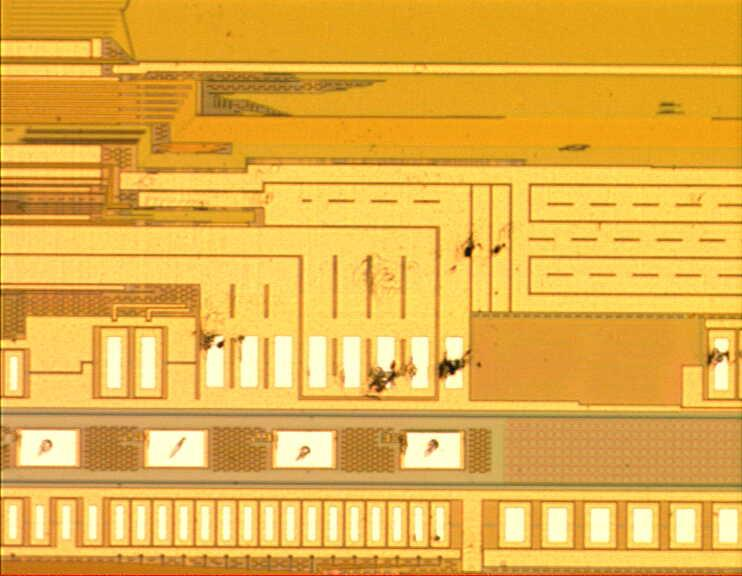SCRATCH: (176, 216, 742, 467)
